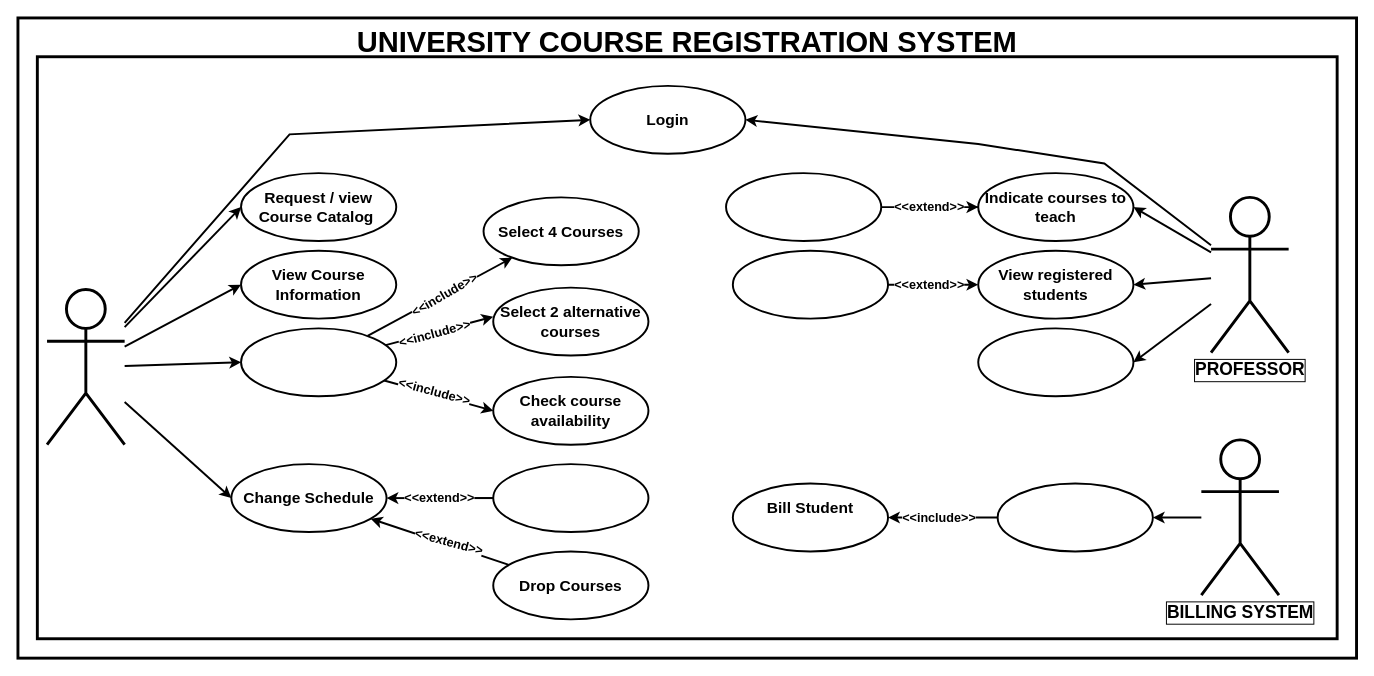
This 1374x676 diagram has some shape labels left out. Each missing label, with the centre of its shape:
"Add Courses" belongs at point 570,498.
"Receive Registration Information" belongs at point 1074,517.
"Register For Courses" belongs at point 318,362.
"STUDENT" belongs at point 85,367.
"View Course Detail" belongs at point 1055,362.
"View Course details" belongs at point 803,207.
"View Student details" belongs at point 810,284.
